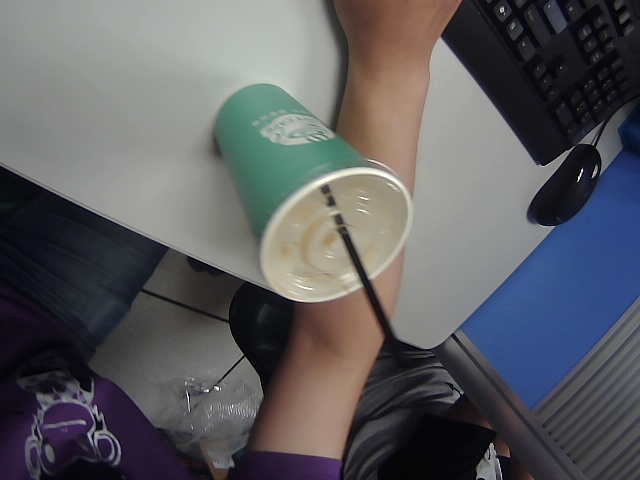beverage: (206, 57, 443, 373)
